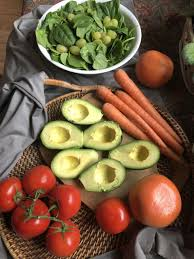aguacate: (41, 100, 175, 189)
